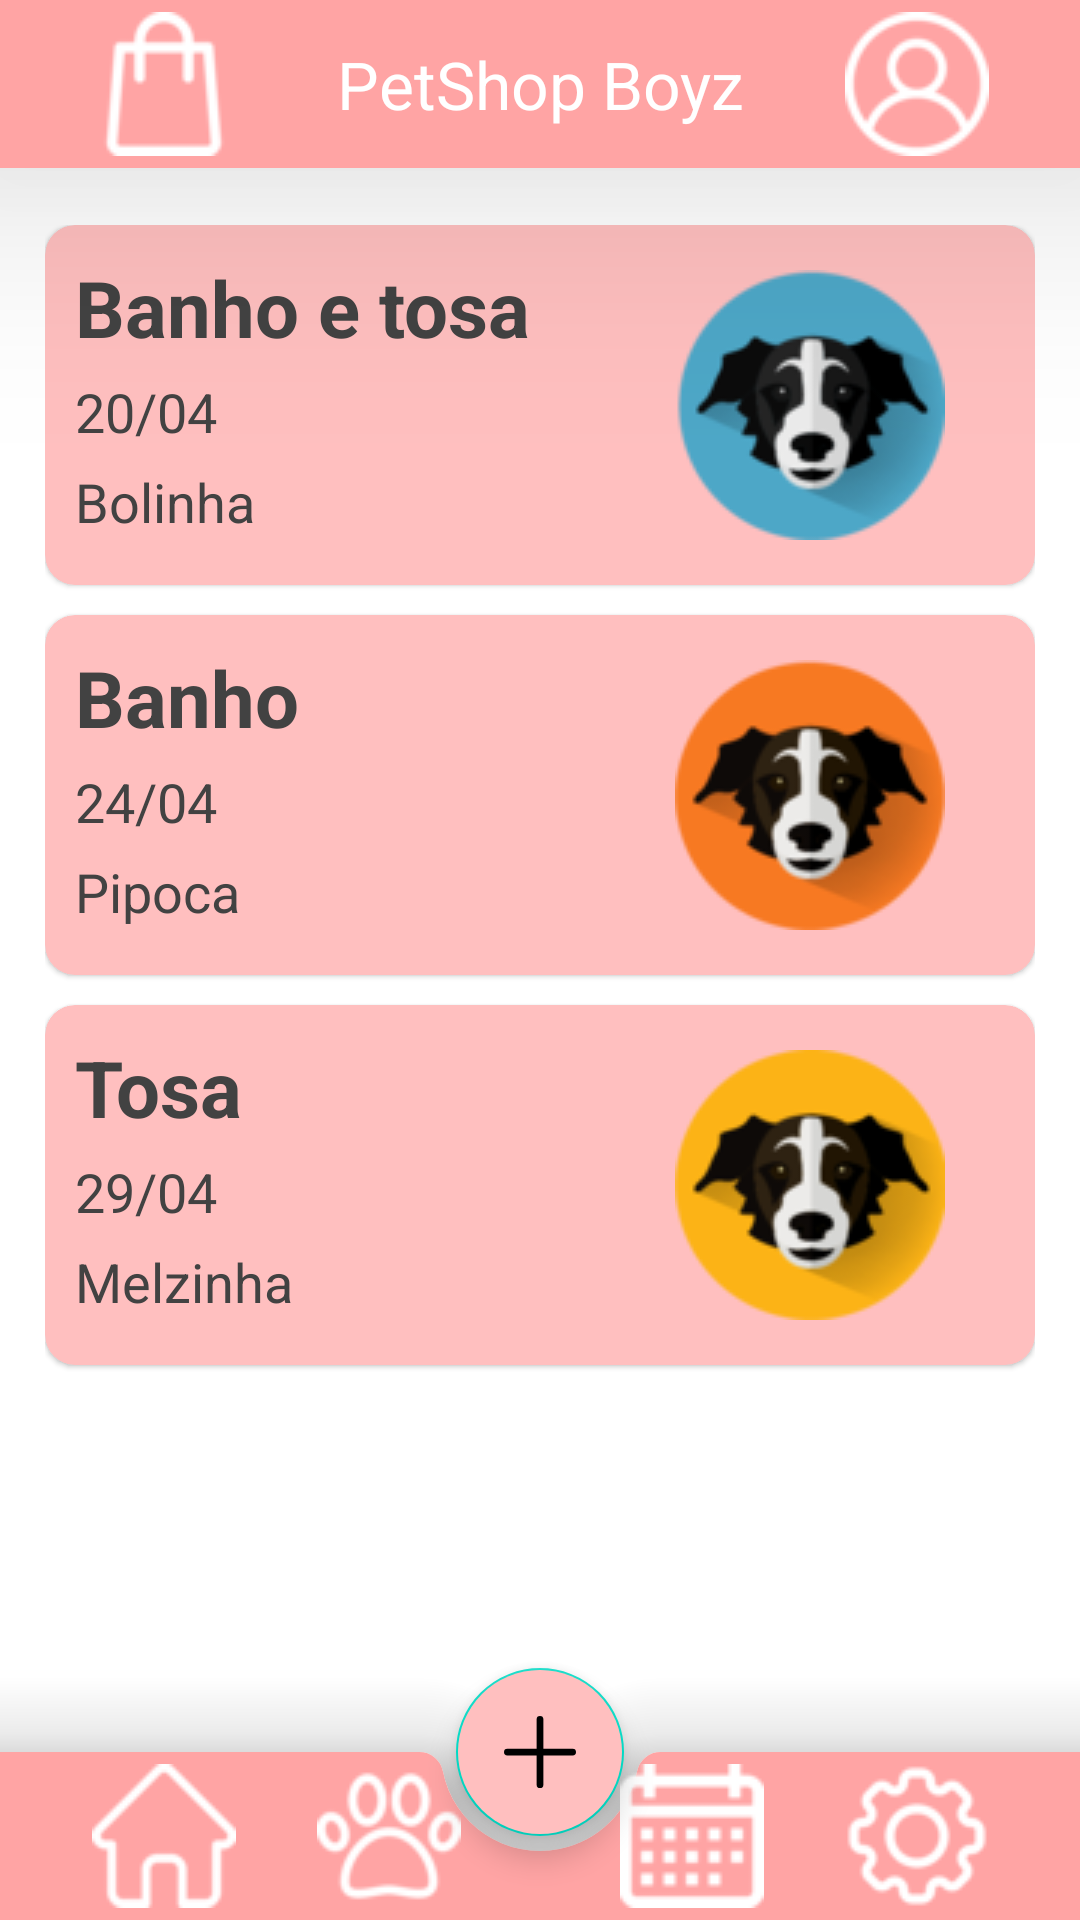

Screen size 1080 × 1920. Icon name, then its center in pixels as (x=x, y=y):
add: (x=540, y=1752)
home: (x=164, y=1836)
pet: (x=811, y=405), (x=810, y=795), (x=810, y=1185), (x=389, y=1836)
setting: (x=917, y=1836)
user: (x=917, y=84)
